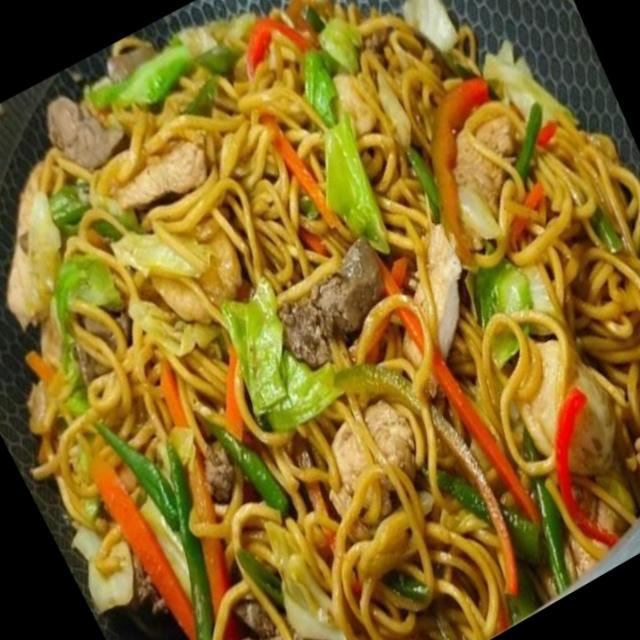pancit bihon: (26, 0, 639, 639)
